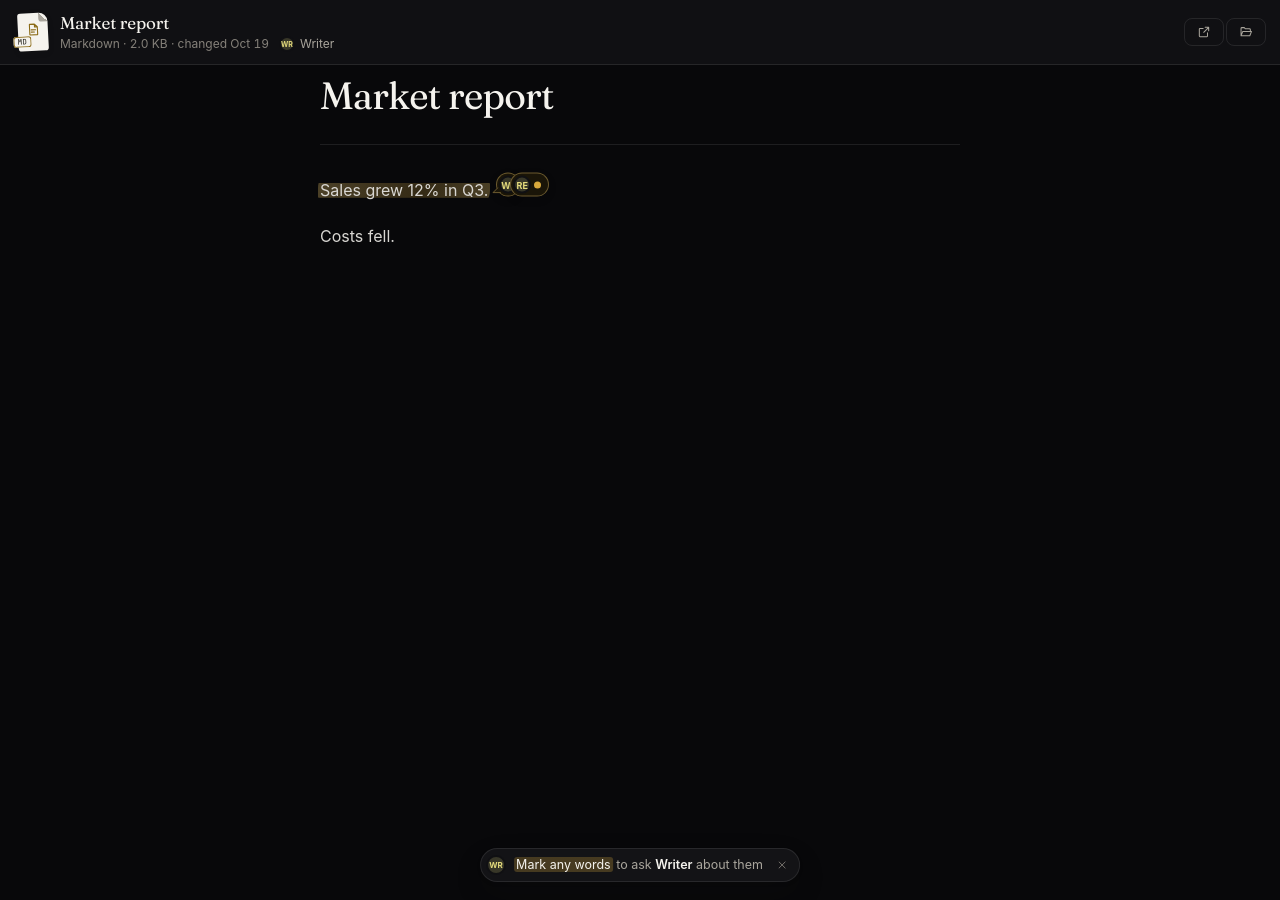
it: reading a file an agent made › gives each agent asked about the same words its own bubble after them, and its own answer
Click the text with class "rd-mark" at (404,190), box x1=318 y1=180 x2=490 y2=200
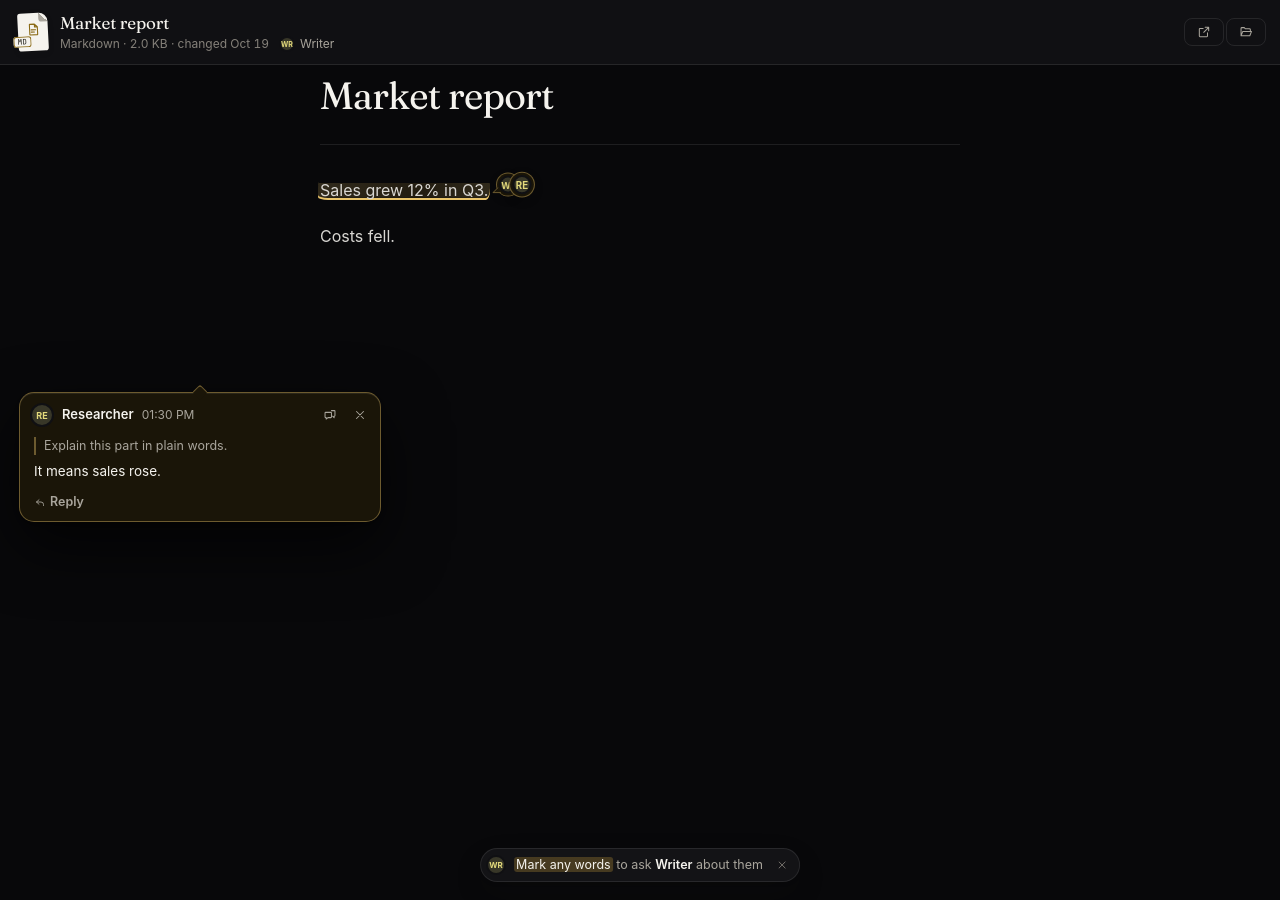
Check: the element named "Researcher's answer to your question" shows "It means sales rose.", box x1=34 y1=463 x2=161 y2=479
Check: the button named "New answer from Researcher about “Sales grew 12% in Q3.”" is expanded, box x1=510 y1=173 x2=534 y2=197
Click the button with aria-label "Writer's answer about “Sales grew 12% in Q3.”" at (508,185), box x1=497 y1=174 x2=519 y2=196
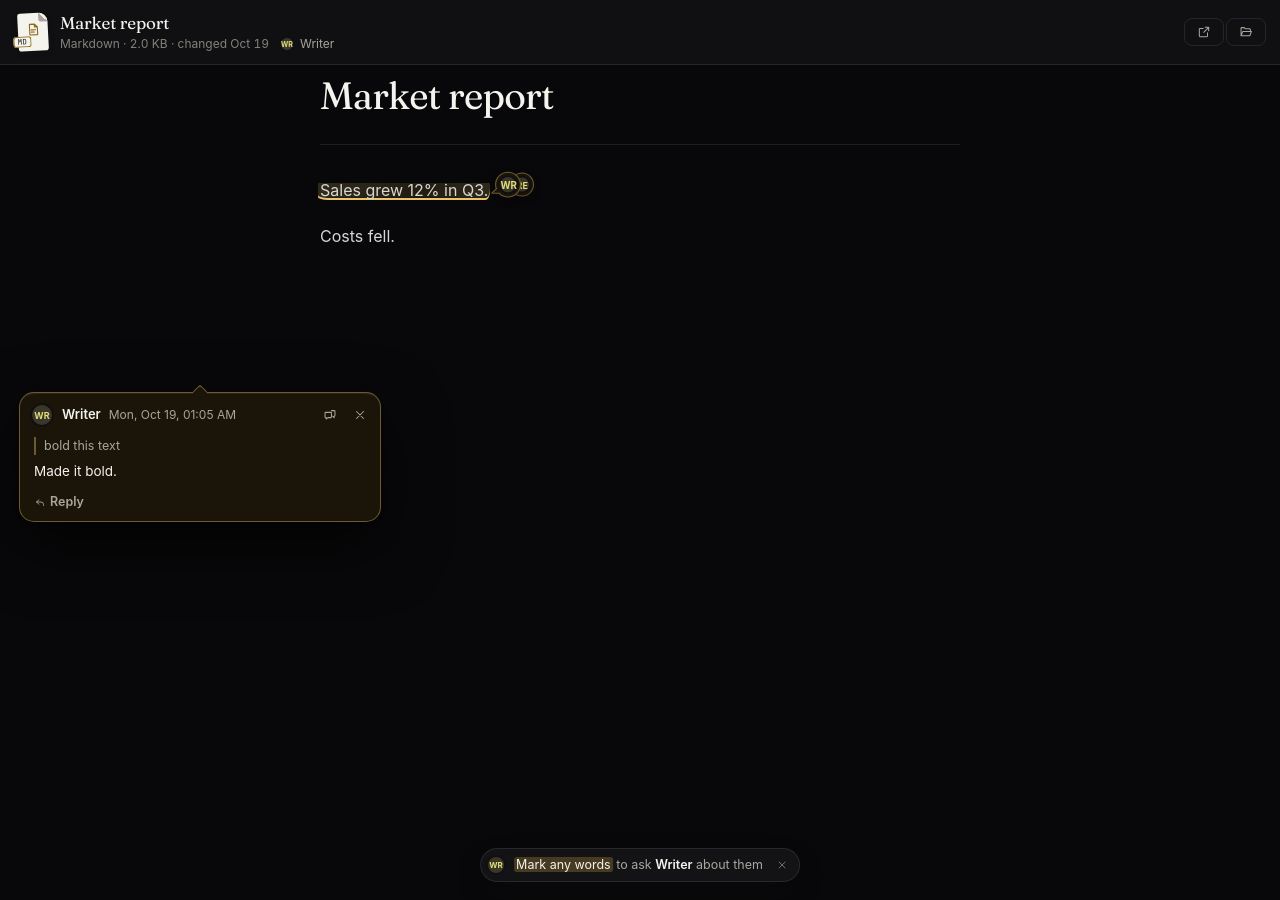
Check: the element named "Writer's answer to your question" shows "Made it bold.", box x1=34 y1=463 x2=117 y2=479
Check: the button with aria-label "Writer's answer about “Sales grew 12% in Q3.”" is expanded, box x1=496 y1=173 x2=520 y2=197
Check: the button named "New answer from Researcher about “Sales grew 12% in Q3.”" is collapsed, box x1=511 y1=174 x2=533 y2=196
